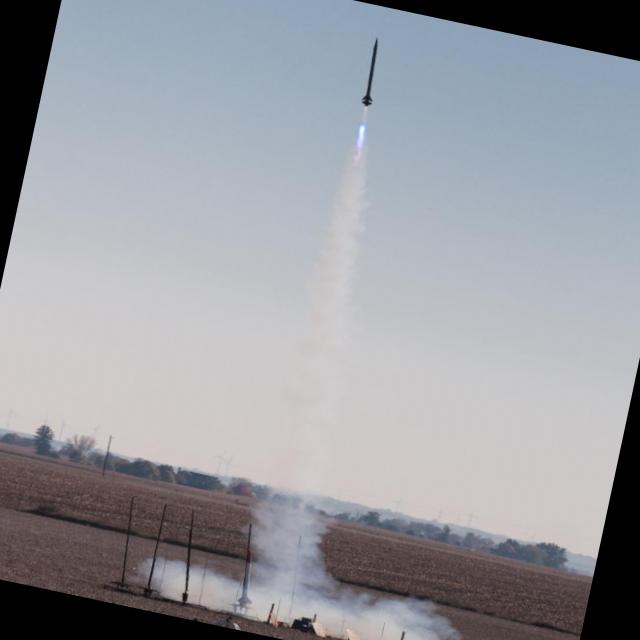rocket: (329, 26, 399, 209)
